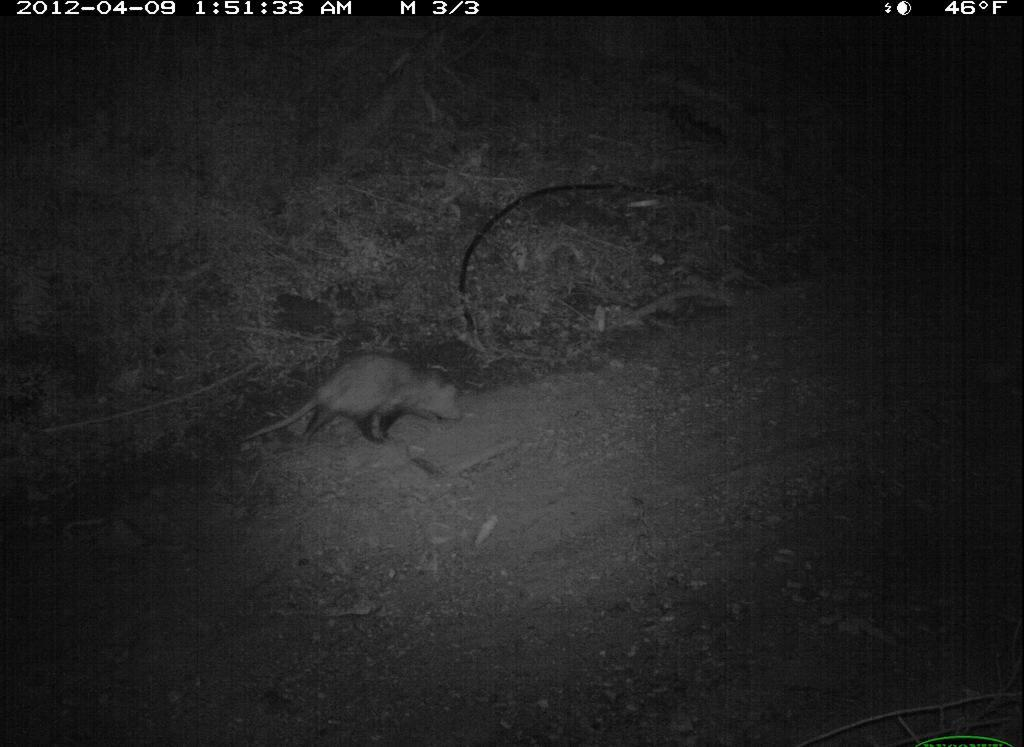opossum: (242, 347, 497, 469)
